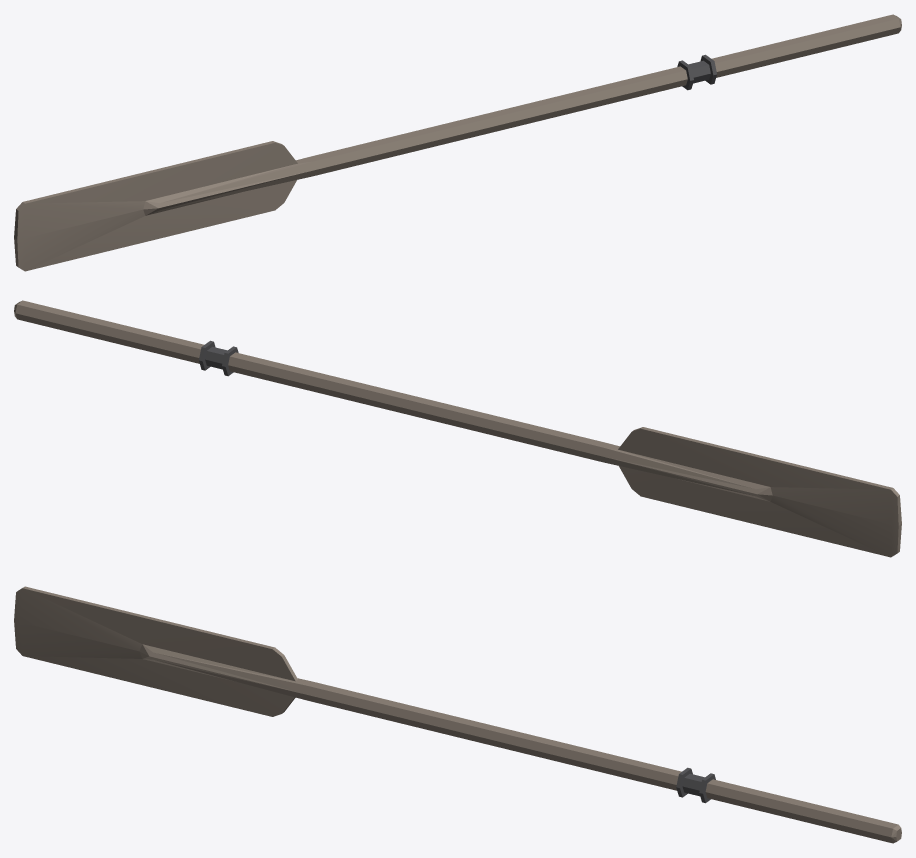
The model's file is Remo.glb.
The picture shows the model from 3 angles, top to bottom: view 1: azimuth 30°, elevation 25°; view 2: azimuth 150°, elevation 25°; view 3: azimuth 330°, elevation 25°; orthographic projection.
Visible parts, largest first — view 1: SM_Prop_Oar_01; view 2: SM_Prop_Oar_01; view 3: SM_Prop_Oar_01.
Boxes of the visible parts, left/top/right/bottom form: SM_Prop_Oar_01: left=14, top=14, right=901, bottom=271; SM_Prop_Oar_01: left=14, top=300, right=901, bottom=557; SM_Prop_Oar_01: left=14, top=586, right=901, bottom=843.
Size of the model in its own units: 4.74 by 0.3473 by 0.1307.
Materials: 1 (1 with a texture image).
